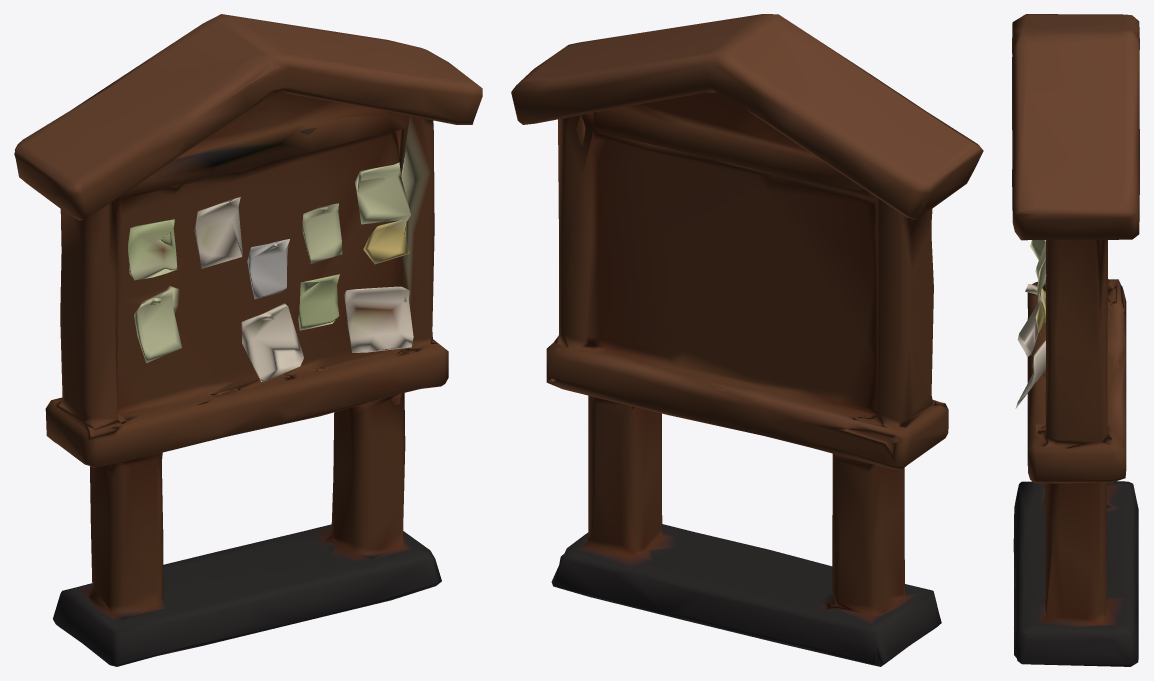
The model's file is gen3d-notice-board-lod0.glb.
3 views of the same model, side by side, from view 1: azimuth 30°, elevation 25°; view 2: azimuth 150°, elevation 25°; view 3: azimuth 270°, elevation 25° (orthographic). The views are drawn at different scales.
Visible parts, largest first — view 1: part_0; view 2: part_0; view 3: part_0.
Boxes of the visible parts, x1,y1,x2,y2 form: part_0: (14, 14, 482, 666); part_0: (511, 14, 983, 666); part_0: (1012, 14, 1139, 666).
Size of the model in its own units: 0.7607 by 0.9994 by 0.2077.
